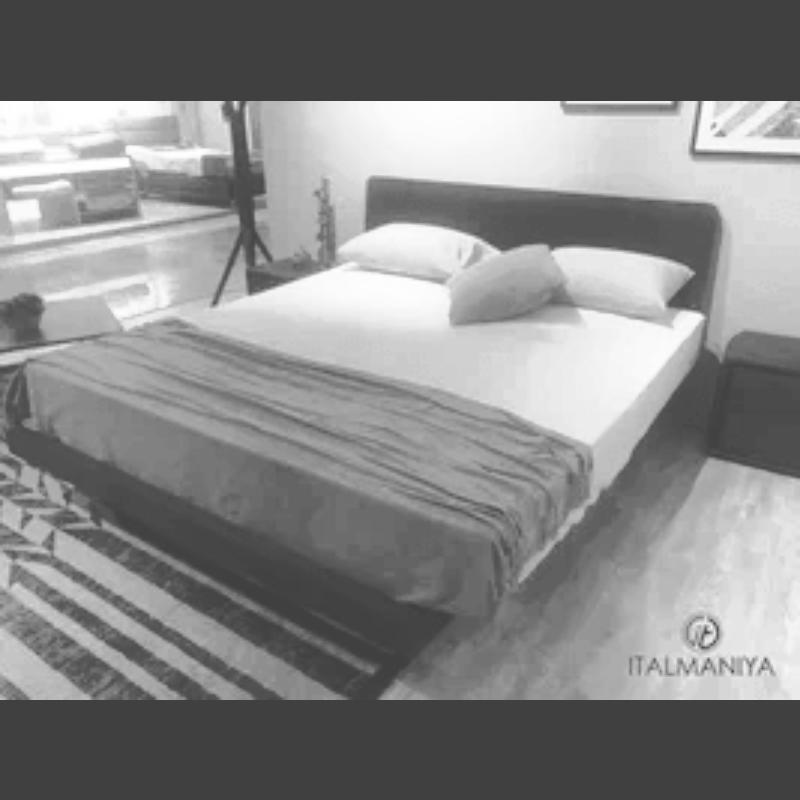pillow: (546, 242, 694, 326), (441, 236, 565, 334), (330, 216, 494, 282)
